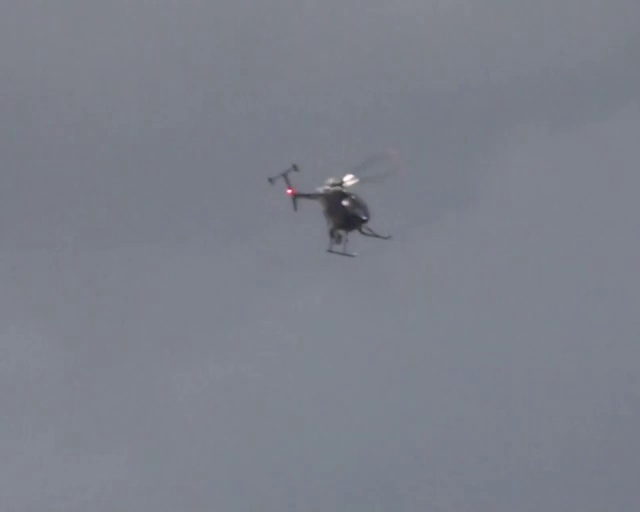HELICOPTER: (266, 156, 397, 259)
